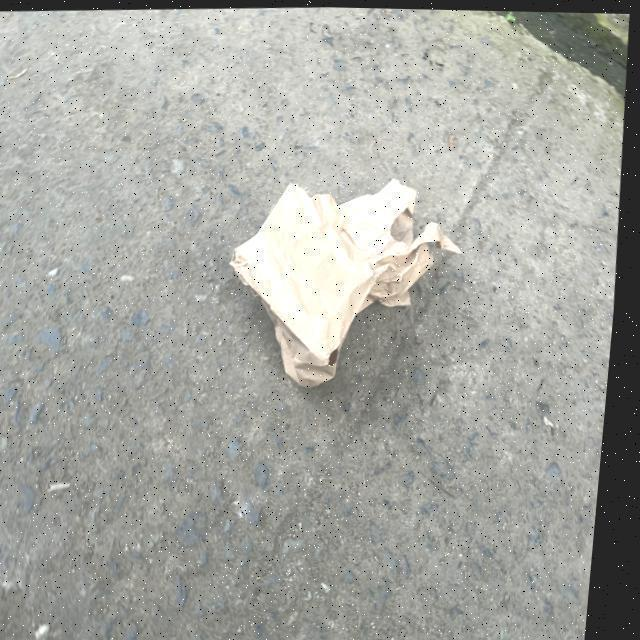Paper_Bag: (229, 170, 473, 391)
